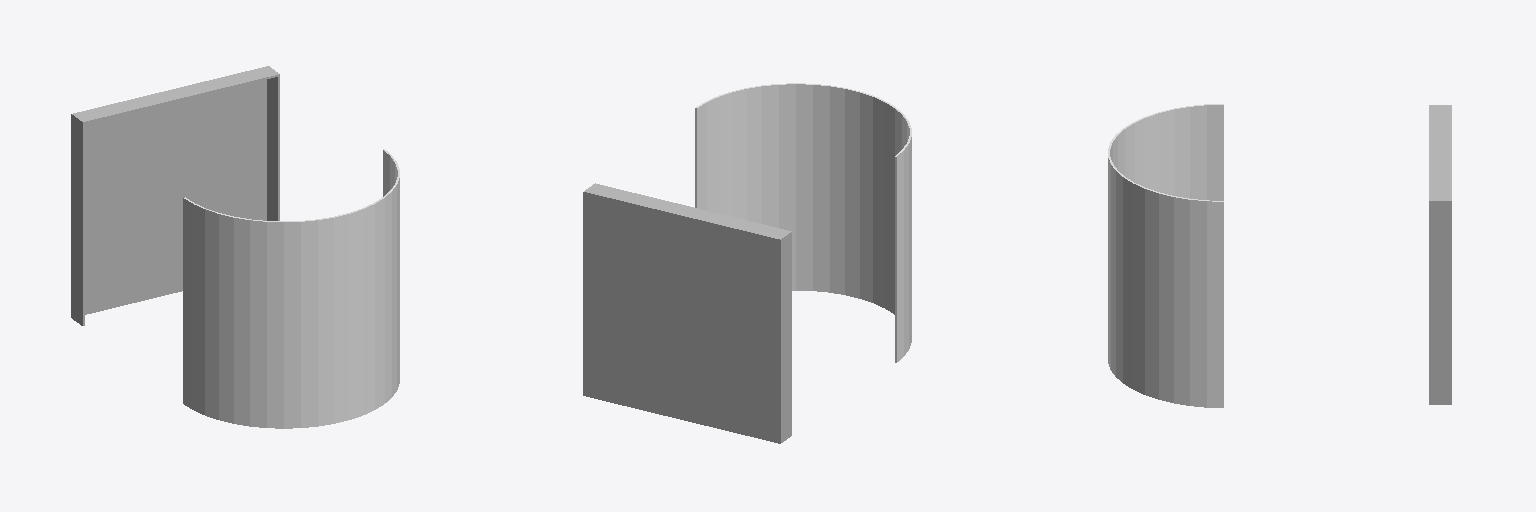
The model's file is world1.obj.
The picture shows the model from 3 angles: view 1: azimuth 30°, elevation 25°; view 2: azimuth 150°, elevation 25°; view 3: azimuth 270°, elevation 25°; orthographic projection.
Visible parts, largest first — view 1: Body2, Body1; view 2: Body1, Body2; view 3: Body2, Body1.
Part boxes in pixels (x1,y1,x2,y2): Body2: (183,149,399,428); Body1: (71,66,279,325); Body1: (583,183,791,443); Body2: (695,83,911,362); Body2: (1108,104,1223,407); Body1: (1429,105,1451,404).
Bounding box in the file's own units: 102 × 100 × 151.